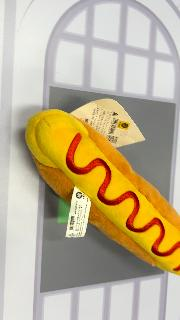hotdog: (25, 108, 179, 276)
